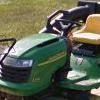Tractor: (6, 16, 100, 100)
